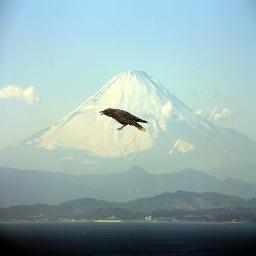Crow: (98, 107, 150, 132)
